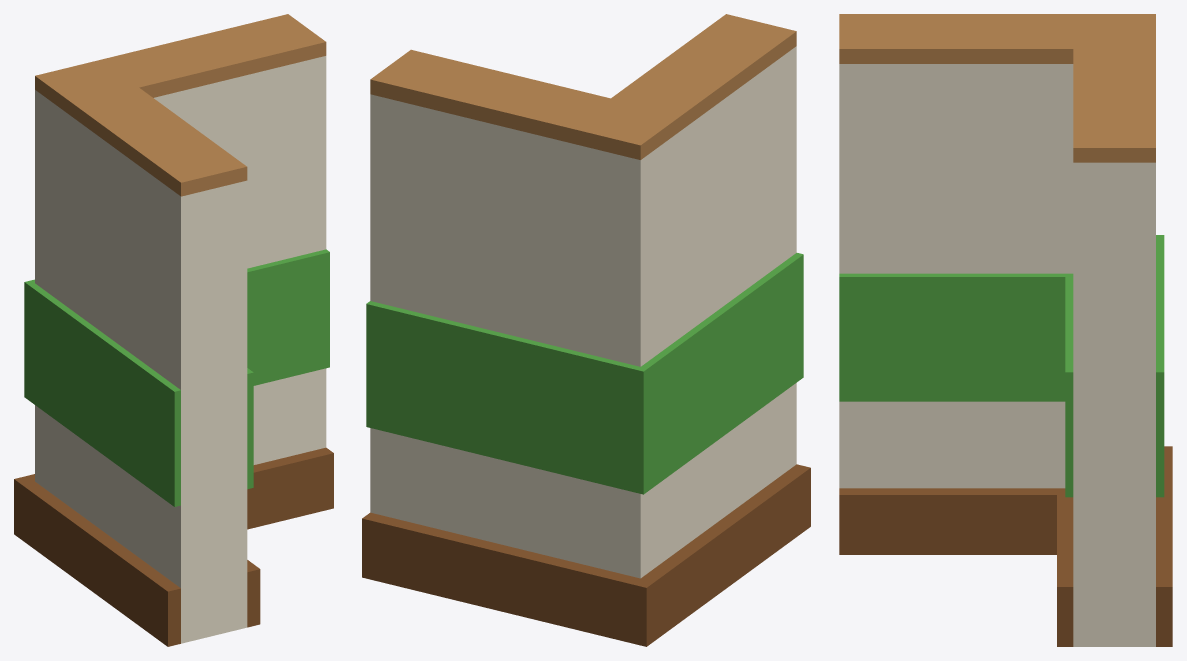
The model's file is partition-full-elbow.glb.
3 views of the same model, side by side, from view 1: azimuth 30°, elevation 25°; view 2: azimuth 150°, elevation 25°; view 3: azimuth 270°, elevation 25° (orthographic). The views are drawn at different scales.
Visible parts, largest first — view 1: partition-full-elbow; view 2: partition-full-elbow; view 3: partition-full-elbow.
Boxes of the visible parts, x1=… form: partition-full-elbow: x1=14, y1=14, x2=333, y2=646; partition-full-elbow: x1=362, y1=14, x2=810, y2=646; partition-full-elbow: x1=839, y1=14, x2=1172, y2=646.
Size of the model in its own units: 0.605 by 1 by 0.605.
1 material, 1 textured.
